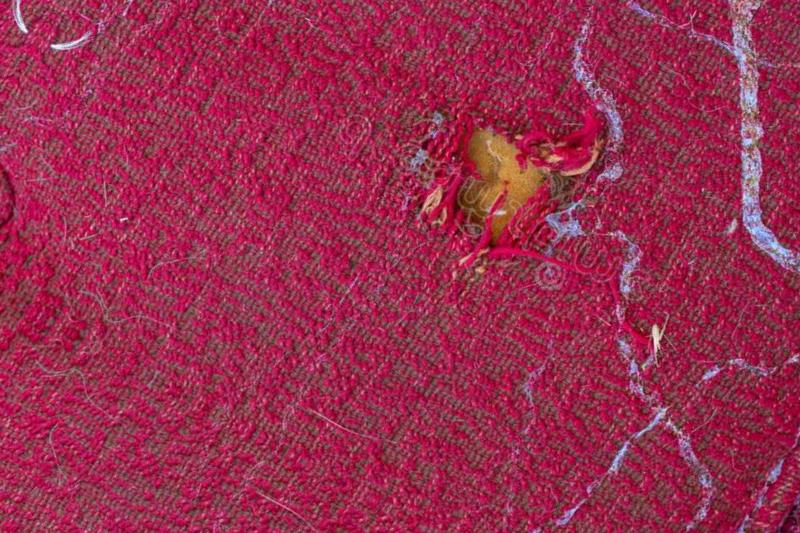hole: (438, 109, 567, 262)
